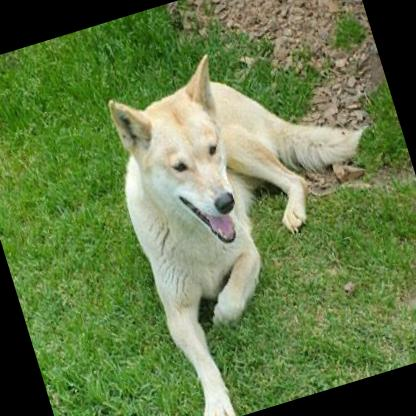dingo: (87, 12, 416, 416)
